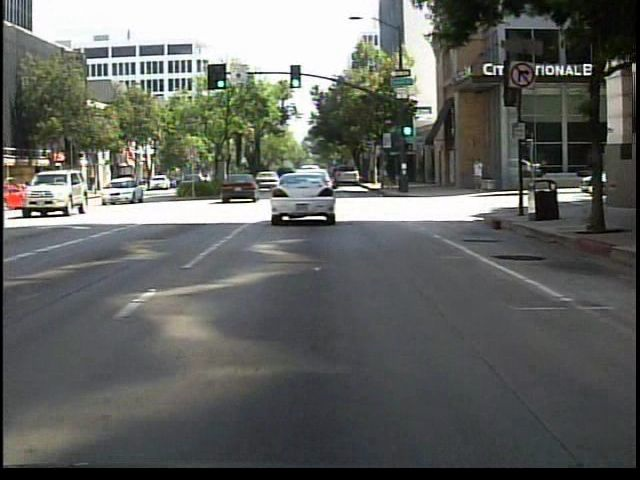person: (471, 156, 488, 195)
